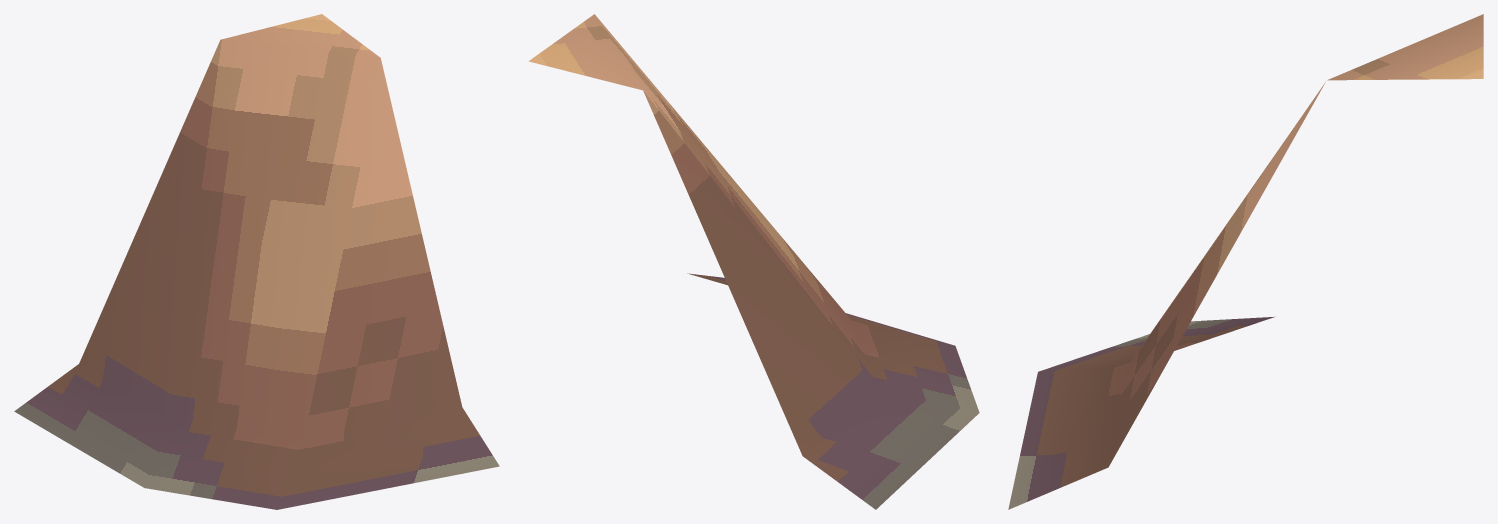
3 renders of one model, left to right at view 1: azimuth 30°, elevation 25°; view 2: azimuth 150°, elevation 25°; view 3: azimuth 270°, elevation 25°, orthographic. The views are drawn at different scales.
Bounding box in the file's own units: 1 × 1 × 1.
Materials: 1 (1 with a texture image).
